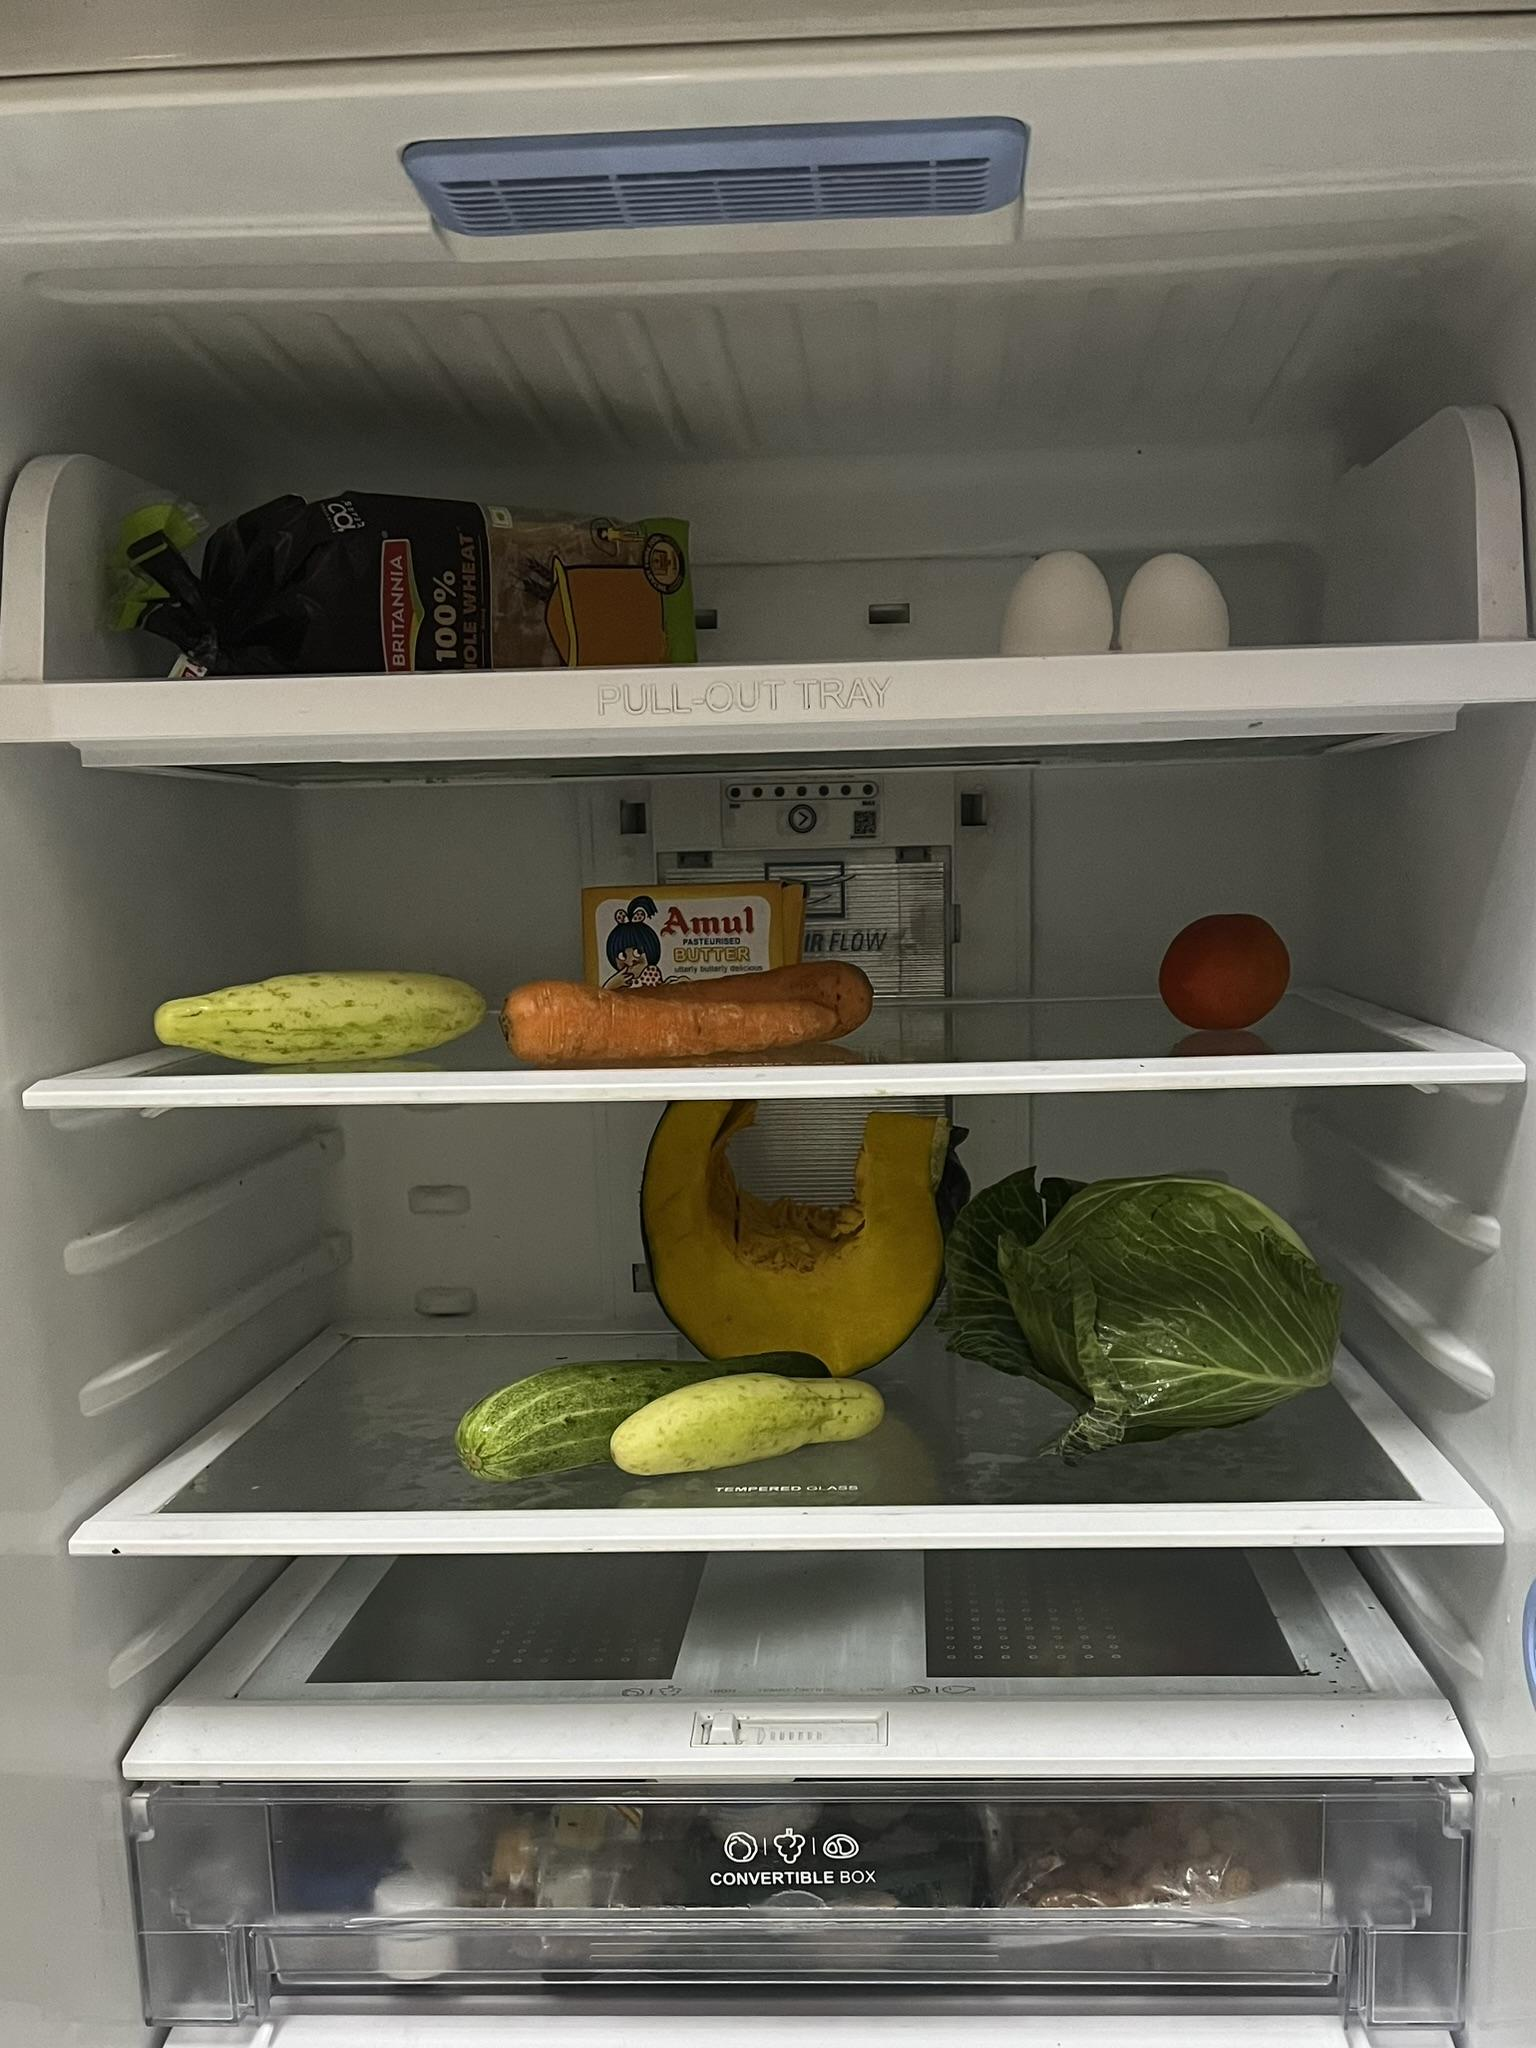bread: (134, 469, 710, 663)
butter: (570, 877, 800, 977)
cabbage: (963, 1177, 1347, 1456)
carrots: (503, 963, 887, 1056)
cucumber: (457, 1347, 891, 1480), (131, 956, 494, 1063)
egg: (1010, 524, 1233, 650)
pumpkin: (637, 1113, 957, 1371)
tomato: (1154, 906, 1307, 1034)
